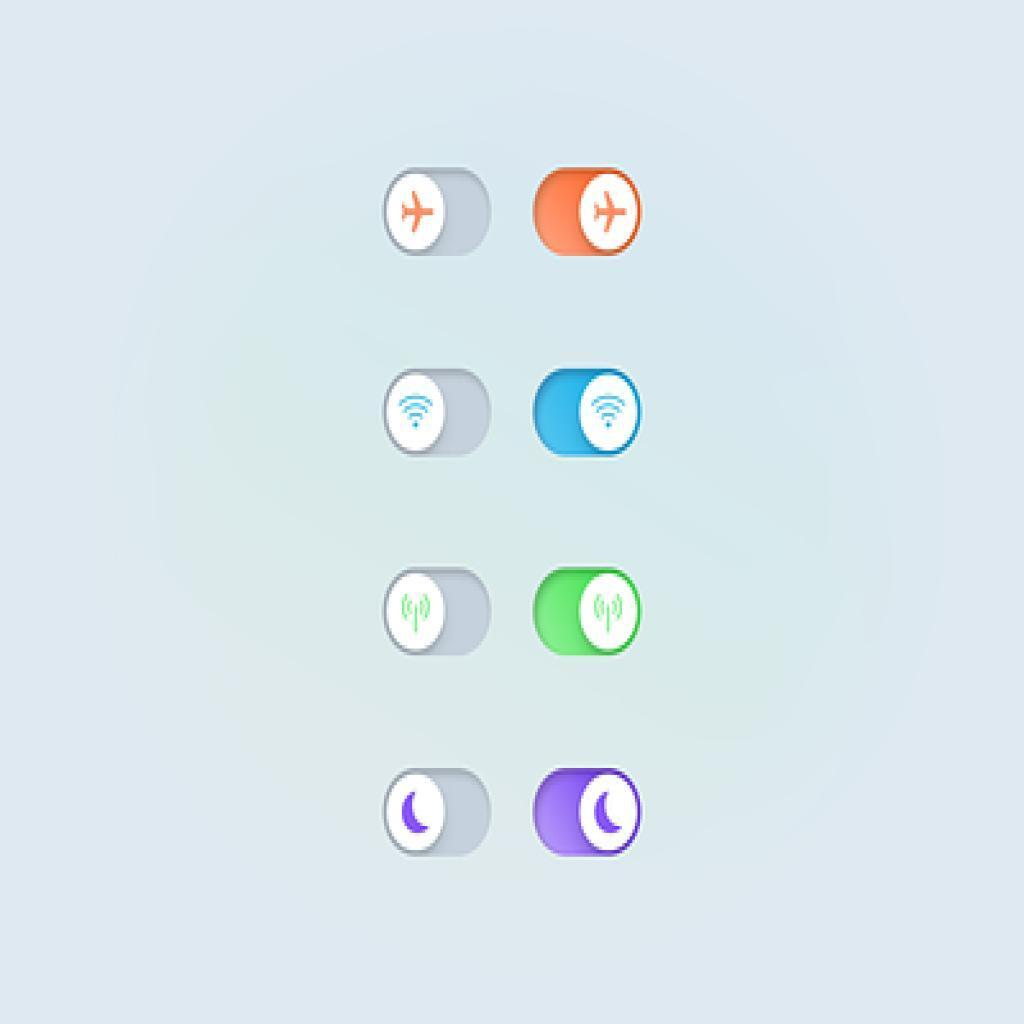switch: (528, 163, 646, 262), (533, 566, 647, 663), (530, 766, 646, 861), (380, 762, 493, 859), (532, 367, 642, 462), (382, 166, 492, 260), (386, 567, 495, 661), (382, 369, 490, 457)
